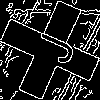J: (25, 25, 78, 67)
